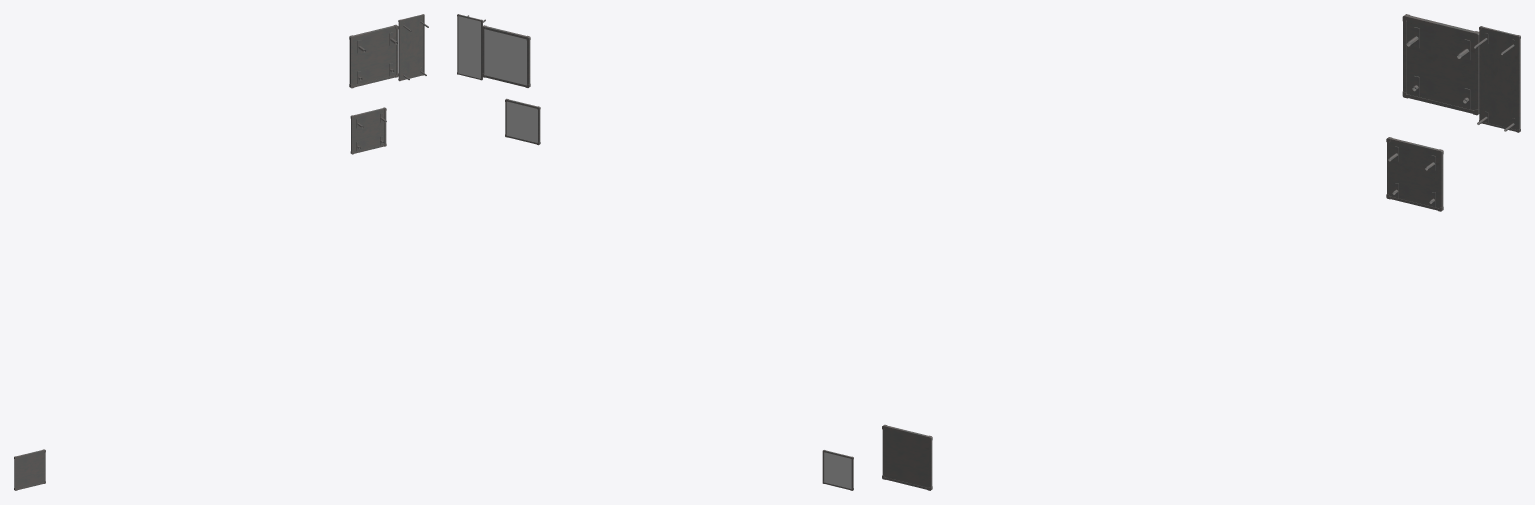
The model's file is Signboard_SetJ_b.fbx.
The picture shows the model from 3 angles, left to right: view 1: azimuth 30°, elevation 25°; view 2: azimuth 150°, elevation 25°; view 3: azimuth 330°, elevation 25°; orthographic projection. The views are drawn at different scales.
Parts seen in each view (by area): view 1: SM_ENV_AMVLLG02_Signboard_SetJ_b.mo; view 2: SM_ENV_AMVLLG02_Signboard_SetJ_b.mo; view 3: SM_ENV_AMVLLG02_Signboard_SetJ_b.mo.
Boxes of the visible parts, bbox=[...] form: SM_ENV_AMVLLG02_Signboard_SetJ_b.mo: bbox=[14, 14, 428, 490]; SM_ENV_AMVLLG02_Signboard_SetJ_b.mo: bbox=[457, 14, 853, 490]; SM_ENV_AMVLLG02_Signboard_SetJ_b.mo: bbox=[882, 14, 1520, 490].
Size of the model in its own units: 4209 by 3776 by 271.
